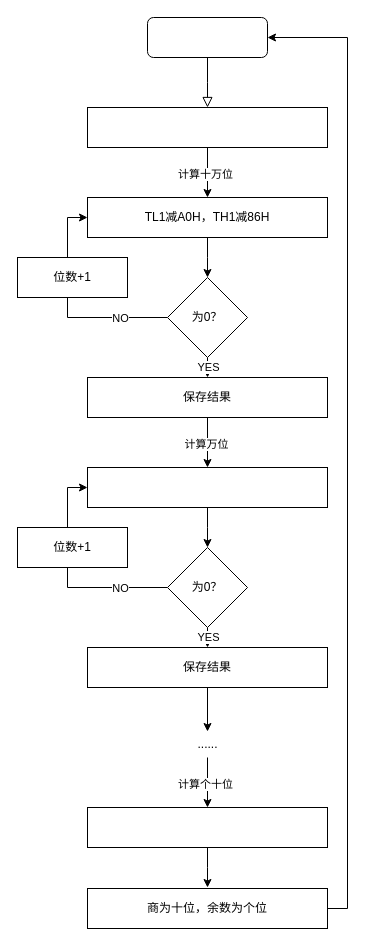
Image size: 373x946. Some labels were removed from this diagram. The centre of each missing label's shape, as x and y in pixels:
TL1减10H，TH1减27H: [207,487]
TL1除以10: [207,827]
计数开始: [207,37]
读取计数器的高八位和低八位，即TL1，TH1: [207,127]
